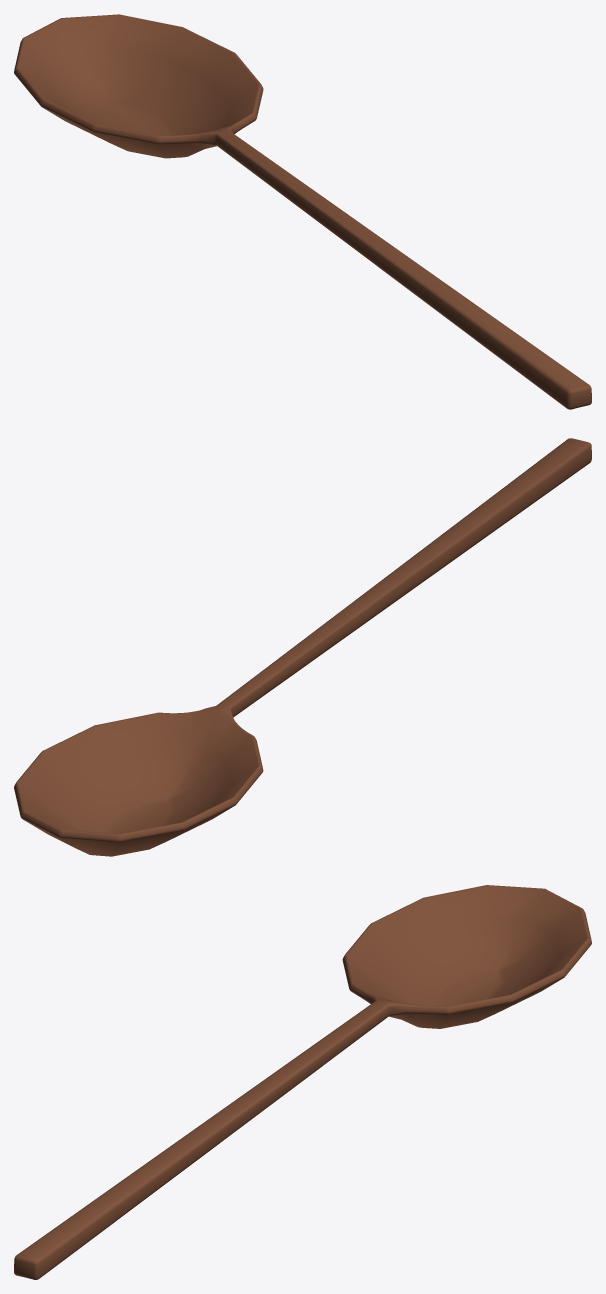
Rendered from Wooden Spoon.fbx.
The picture shows the model from 3 angles, top to bottom: view 1: azimuth 30°, elevation 25°; view 2: azimuth 150°, elevation 25°; view 3: azimuth 330°, elevation 25°; orthographic projection.
Parts seen in each view (by area): view 1: Wooden Spoon; view 2: Wooden Spoon; view 3: Wooden Spoon.
Boxes of the visible parts, left/top/right/bottom form: Wooden Spoon: left=14, top=14, right=591, bottom=409; Wooden Spoon: left=14, top=438, right=591, bottom=856; Wooden Spoon: left=14, top=885, right=591, bottom=1279.
Size of the model in its own units: 6.99 by 2.27 by 32.1.
